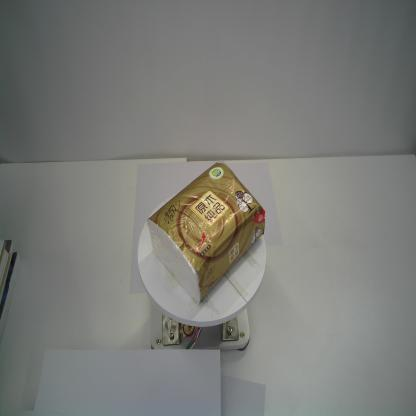Tissue: (147, 160, 265, 306)
